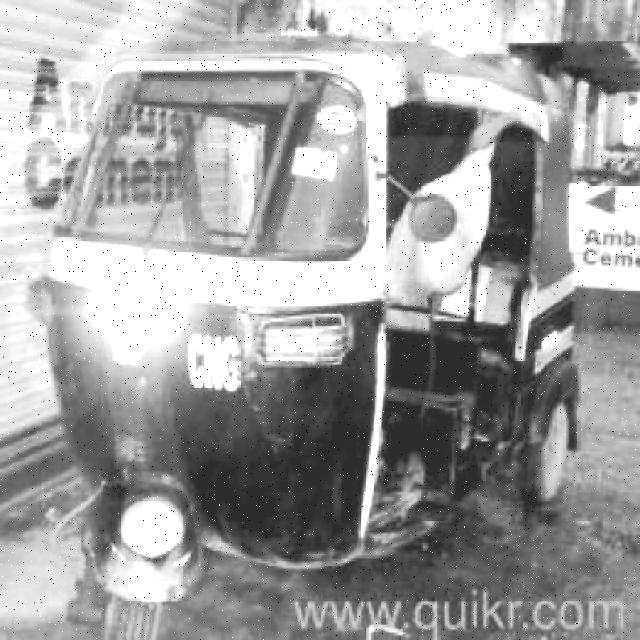Auto-Rickshaw: (23, 38, 585, 638)
